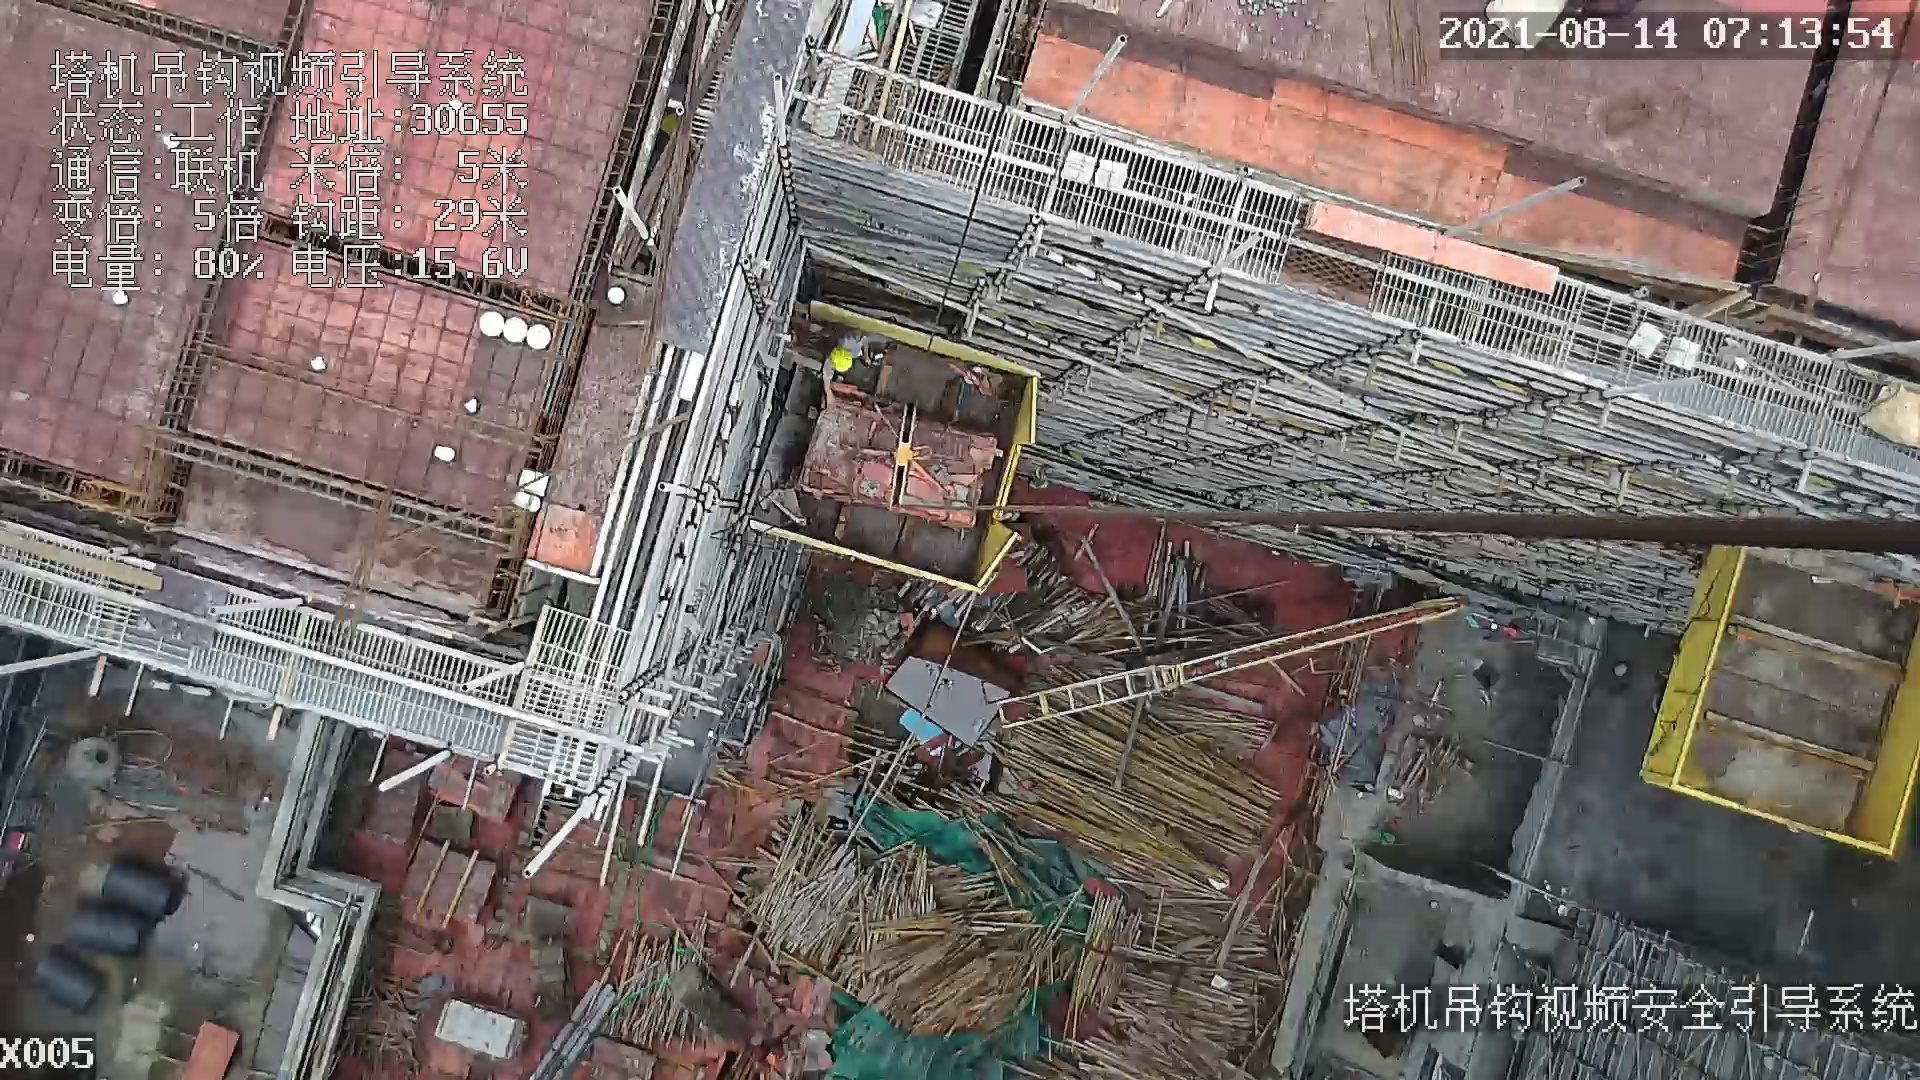helmet: (828, 345, 856, 375)
hook: (883, 400, 922, 514)
person: (814, 328, 870, 408)
